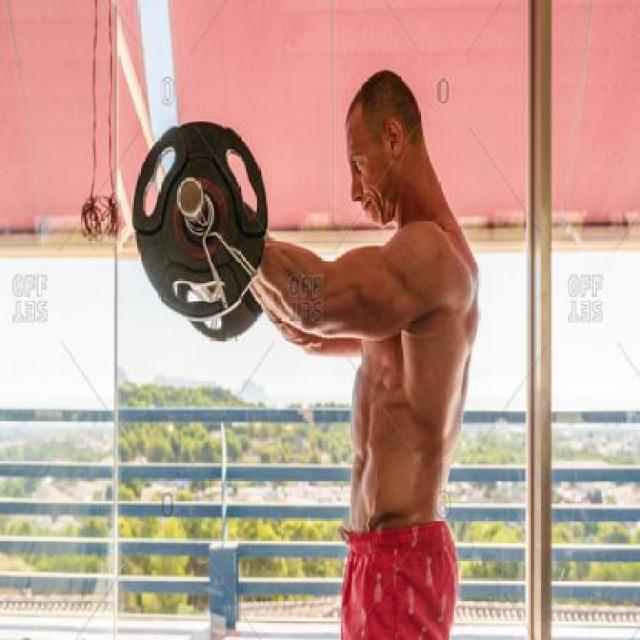Barbell: (174, 164, 208, 224)
